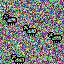sheep: (3, 14, 17, 26), (23, 25, 37, 36), (48, 32, 62, 43), (10, 54, 25, 64)
